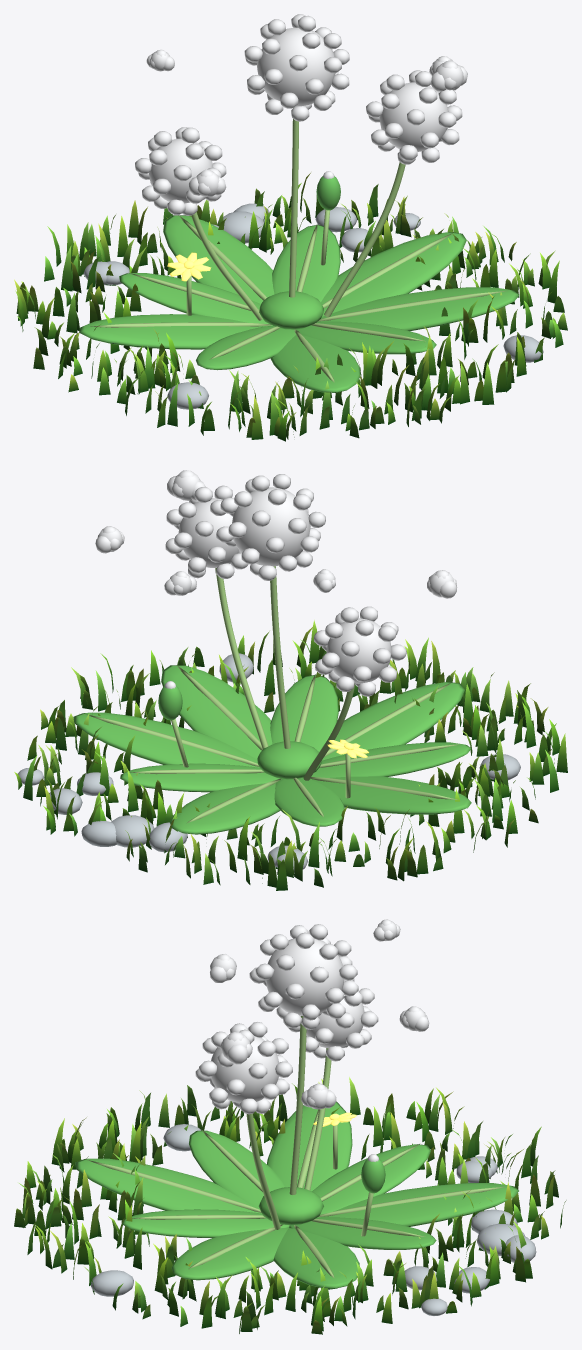
The model's file is SkyDandelions.fbx.
The picture shows the model from 3 angles, top to bottom: view 1: azimuth 30°, elevation 25°; view 2: azimuth 150°, elevation 25°; view 3: azimuth 270°, elevation 25°; orthographic projection.
Parts seen in each view (by area): view 1: Rosette, Grass.010, Bloom, Stalk_1, Stalk_2, Seed_0, Seed_2; view 2: Rosette, Grass.010, Bloom, Stalk_2, Stalk_1, Seed_0, Seed_2, Seed_3, Seed_1; view 3: Rosette, Grass.010, Bloom, Stalk_1, Stalk_2, Seed_0, Seed_1, Seed_2, Seed_3.
Part boxes in pixels (x1,y1,x2,y2): Rosette: (79, 171, 543, 409); Grass.010: (14, 173, 567, 441); Bloom: (244, 14, 349, 297); Stalk_1: (324, 70, 462, 317); Stalk_2: (135, 127, 262, 320); Seed_0: (431, 60, 467, 91); Seed_2: (188, 169, 226, 196); Rosette: (18, 653, 520, 872); Grass.010: (14, 620, 567, 890); Bloom: (216, 474, 325, 748); Stalk_2: (303, 606, 406, 780); Stalk_1: (165, 485, 268, 749); Seed_0: (167, 470, 205, 500); Seed_2: (427, 570, 457, 598); Seed_3: (164, 571, 196, 595); Seed_1: (95, 526, 124, 553); Rosette: (75, 1101, 536, 1315); Grass.010: (14, 1077, 566, 1334); Bloom: (249, 924, 358, 1194); Stalk_1: (195, 1022, 292, 1229); Stalk_2: (287, 978, 378, 1190); Seed_0: (220, 1032, 252, 1064); Seed_1: (301, 1083, 336, 1109); Seed_2: (210, 954, 236, 982); Seed_3: (399, 1006, 429, 1031).
Bounding box in the file's own units: 2.03 × 1.23 × 2.03.
